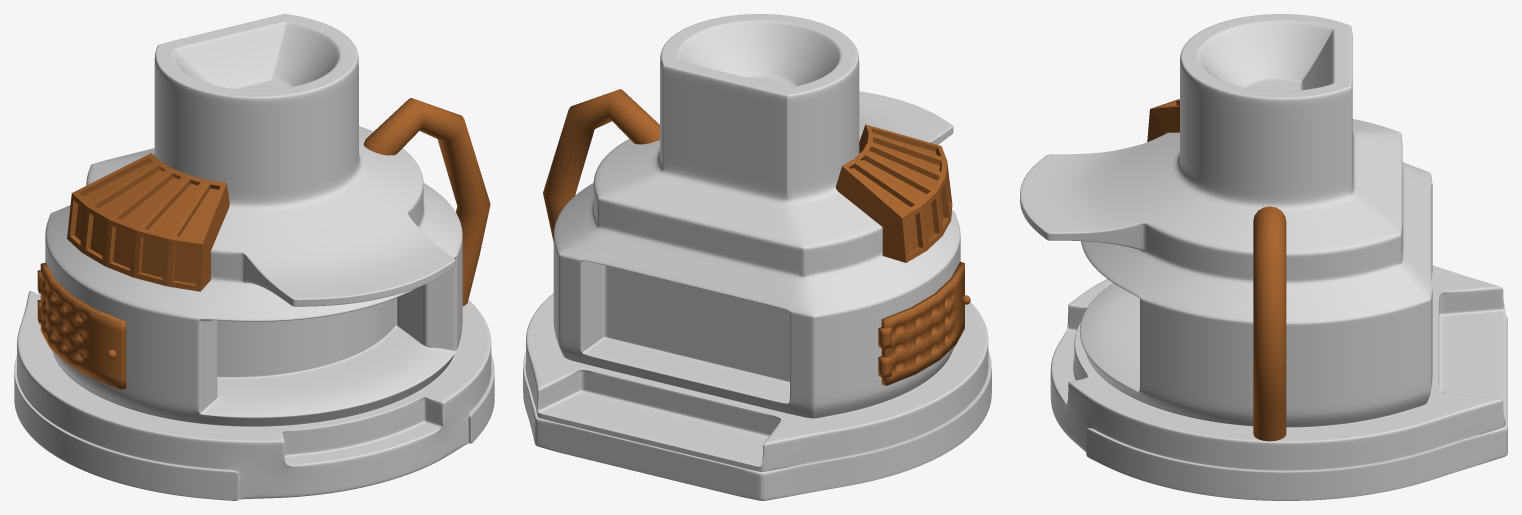
The model's file is four.fbx.
The picture shows the model from 3 angles, left to right: view 1: azimuth 30°, elevation 25°; view 2: azimuth 150°, elevation 25°; view 3: azimuth 270°, elevation 25°; orthographic projection. The views are drawn at different scales.
Parts seen in each view (by area): view 1: four.004; view 2: four.004; view 3: four.004.
Part boxes in pixels (x1=…): four.004: x1=14, y1=14, x2=494, y2=500; four.004: x1=523, y1=14, x2=991, y2=500; four.004: x1=1020, y1=14, x2=1507, y2=500.
Bounding box in the file's own units: 210 × 206 × 160.
